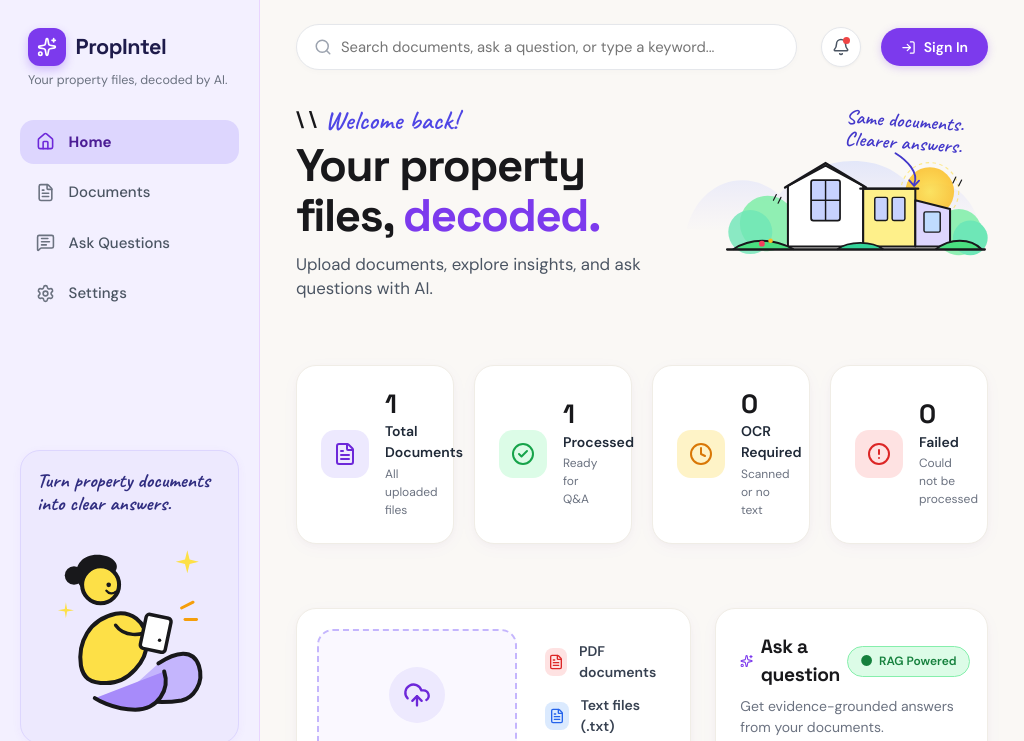
Test: App Routing & Shell Tests › navigates to Ask Questions page when clicking Ask Questions nav item
Step 1. Click the button "Ask Questions" → point(130, 243), box top-left (20, 221), bottom-right (239, 265)
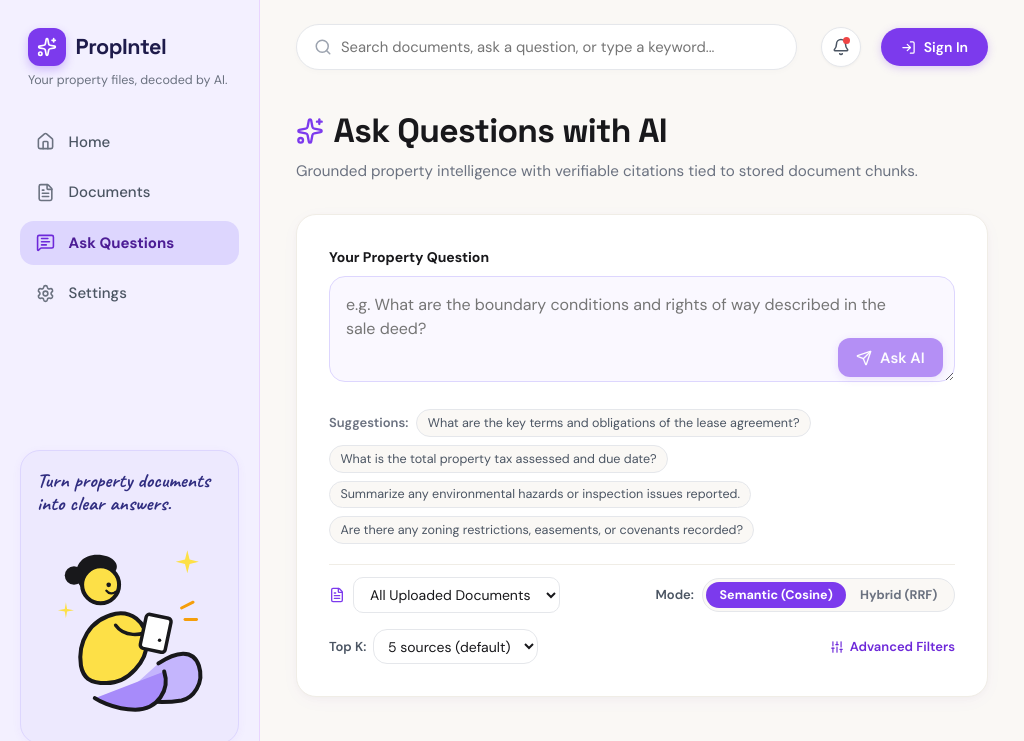
Now the heading "Ask Questions with AI" is shown, box top-left (334, 106), bottom-right (667, 156)
